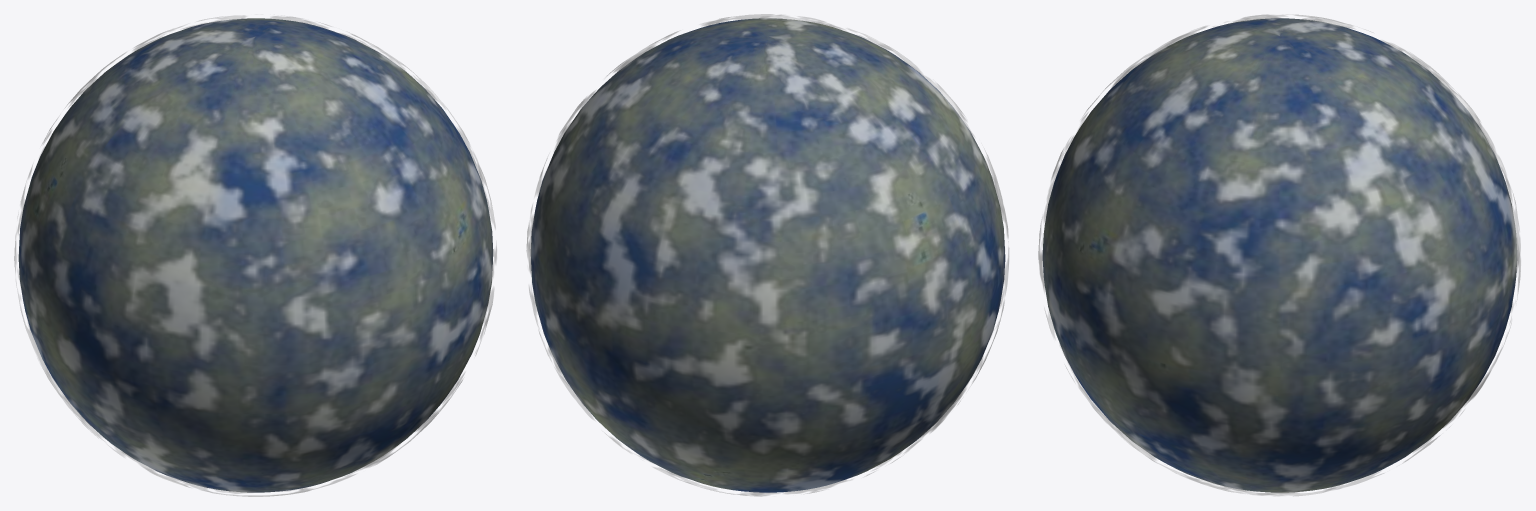
Rendered from planet_ocean_001.glb.
3 renders of one model, left to right at view 1: azimuth 30°, elevation 25°; view 2: azimuth 150°, elevation 25°; view 3: azimuth 270°, elevation 25°, orthographic.
Parts seen in each view (by area): view 1: Planet_ocean_001, Clouds_ocean_001; view 2: Planet_ocean_001, Clouds_ocean_001; view 3: Planet_ocean_001, Clouds_ocean_001.
Boxes of the visible parts, bbox=[...] form: Planet_ocean_001: bbox=[18, 18, 493, 492]; Clouds_ocean_001: bbox=[14, 15, 496, 496]; Planet_ocean_001: bbox=[530, 18, 1005, 492]; Clouds_ocean_001: bbox=[526, 14, 1009, 496]; Planet_ocean_001: bbox=[1042, 18, 1517, 492]; Clouds_ocean_001: bbox=[1038, 14, 1520, 495].
Bounding box in the file's own units: 2.04 × 2.04 × 2.04.
2 materials, 2 textured.
